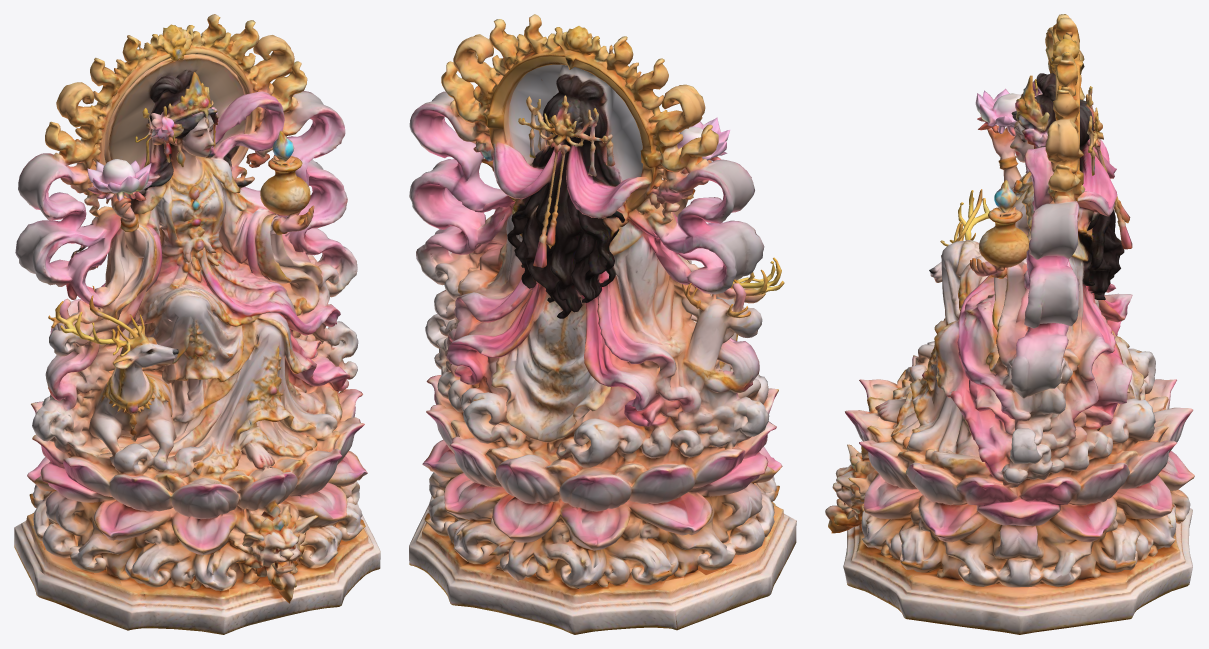
3 views of the same model, side by side, from view 1: azimuth 30°, elevation 25°; view 2: azimuth 150°, elevation 25°; view 3: azimuth 270°, elevation 25° (orthographic). The views are drawn at different scales.
Visible parts, largest first — view 1: owner-collection20-07; view 2: owner-collection20-07; view 3: owner-collection20-07.
Boxes of the visible parts, left/top/right/bottom form: owner-collection20-07: left=14, top=14, right=380, bottom=634; owner-collection20-07: left=409, top=14, right=796, bottom=634; owner-collection20-07: left=825, top=14, right=1194, bottom=634.
Bounding box in the file's own units: 0.6454 × 1 × 0.6438.
1 material, 1 textured.
